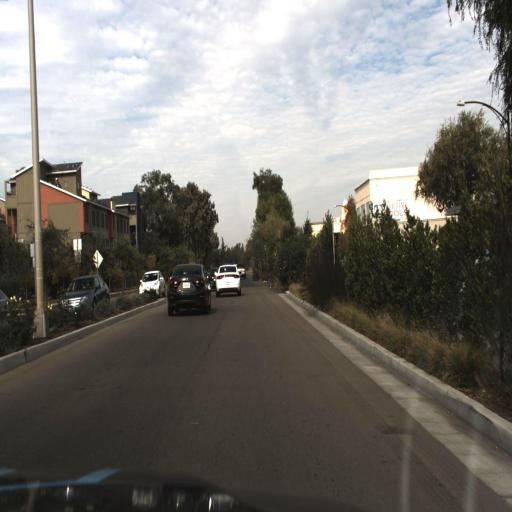car: (52, 265, 114, 325), (159, 252, 211, 323), (211, 253, 249, 305), (134, 261, 167, 302), (136, 265, 165, 301), (202, 267, 218, 297)
